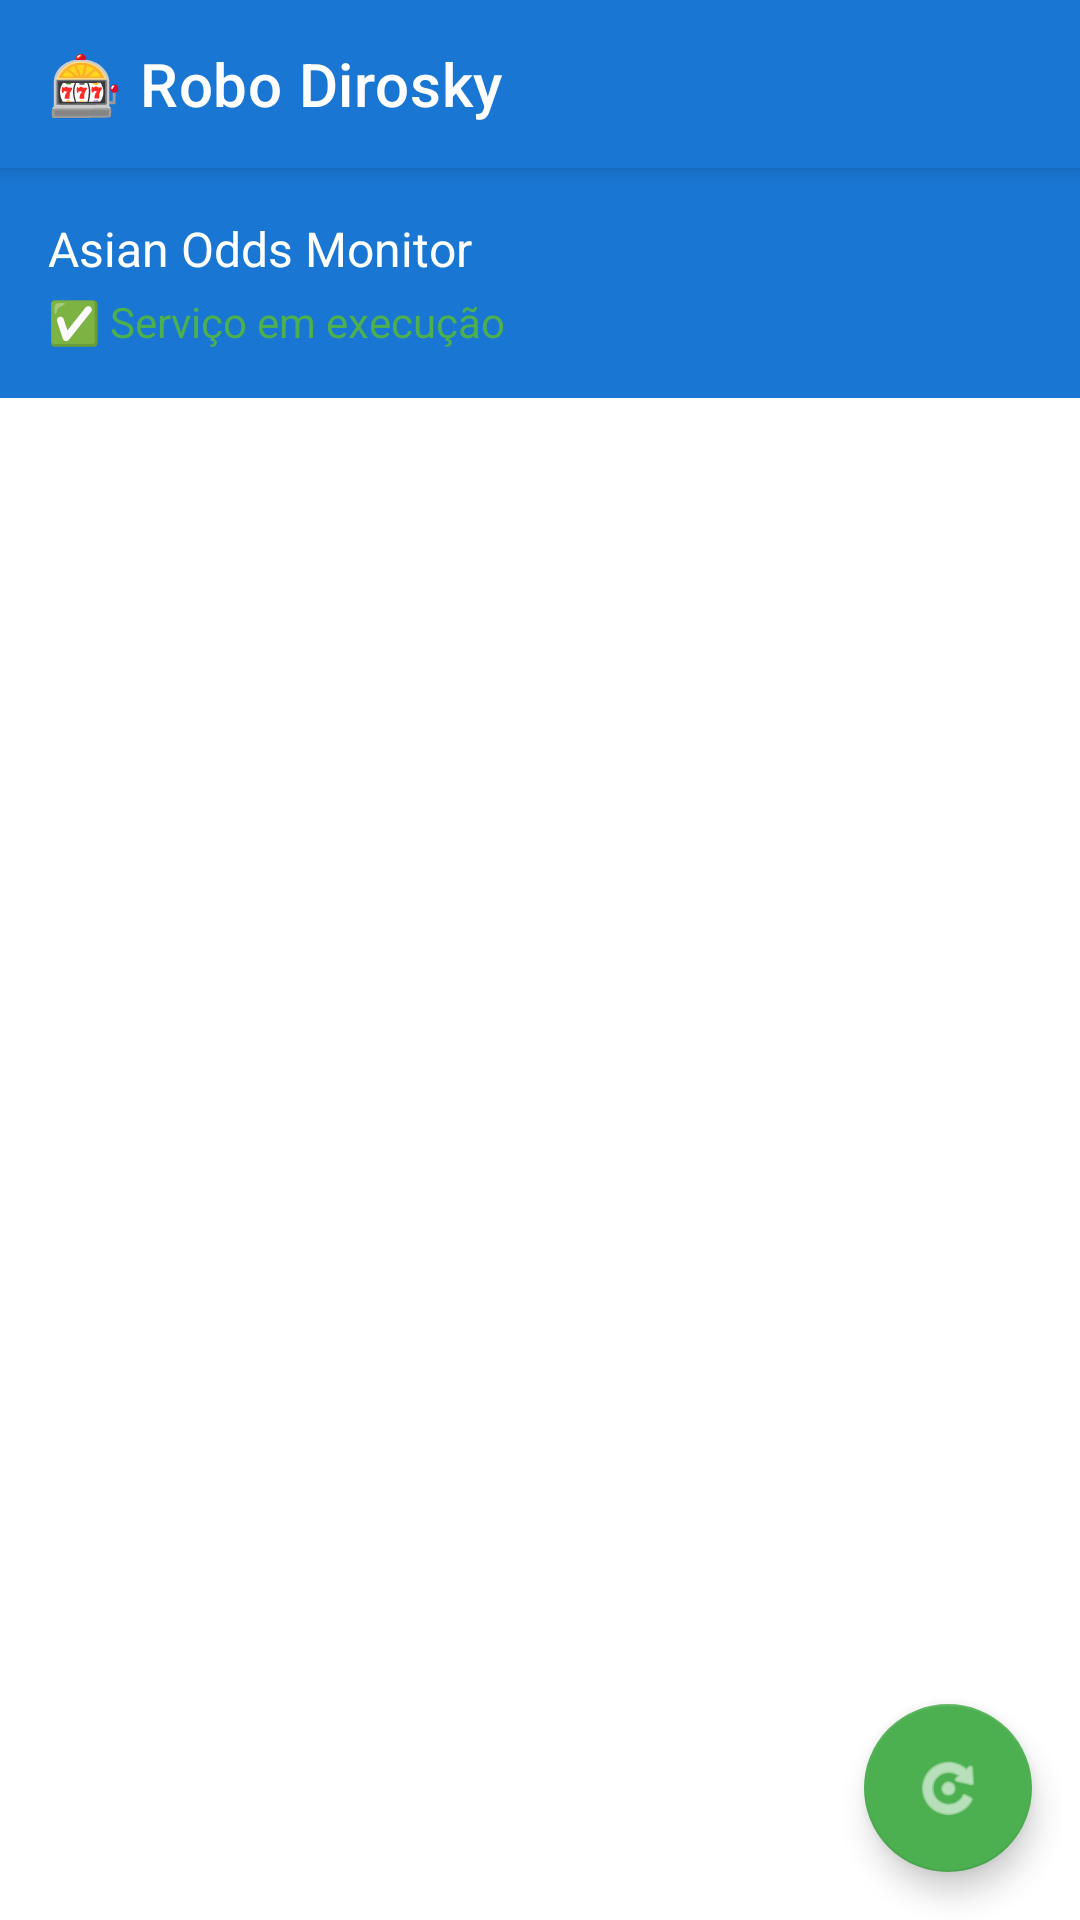

Point at icon controls on the screen. Image size 1080px x 1920px, points as point (x, y).
rotate: point (948, 1788)
